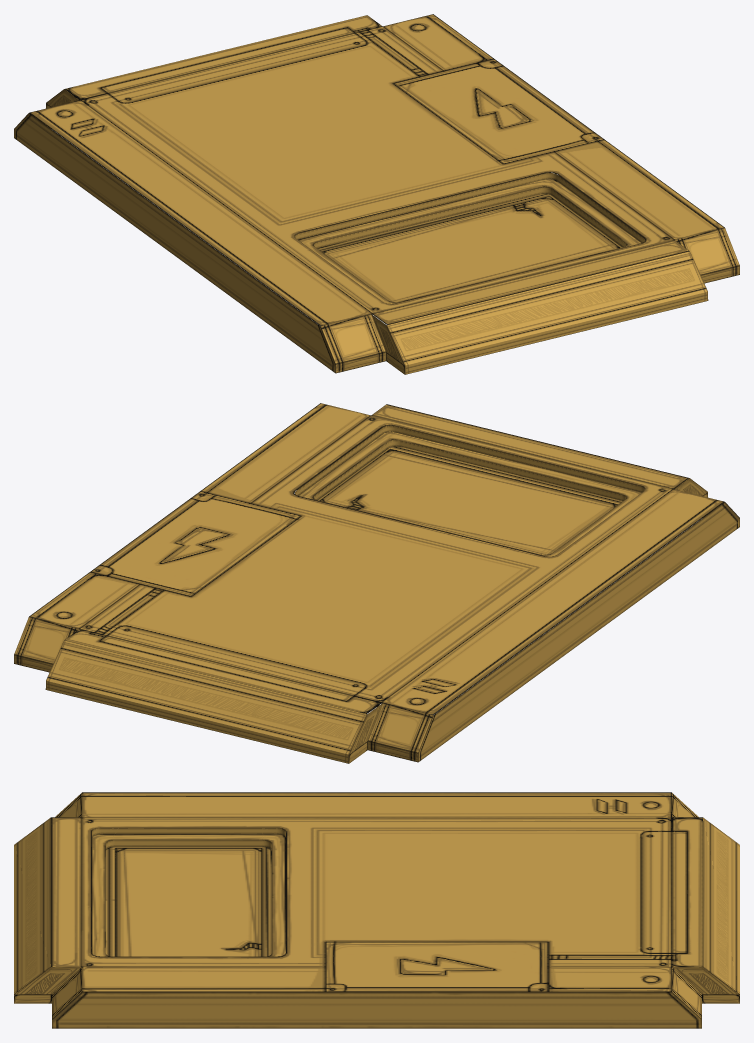
The model's file is panel.fbx.
3 views of the same model, one above another, from view 1: azimuth 30°, elevation 25°; view 2: azimuth 150°, elevation 25°; view 3: azimuth 270°, elevation 25° (orthographic).
Visible parts, largest first — view 1: Cube; view 2: Cube; view 3: Cube.
Part boxes in pixels (bbox=[...]): Cube: bbox=[14, 14, 739, 374]; Cube: bbox=[14, 403, 739, 763]; Cube: bbox=[14, 792, 739, 1028].
Bounding box in the file's own units: 106 × 9.05 × 162.
